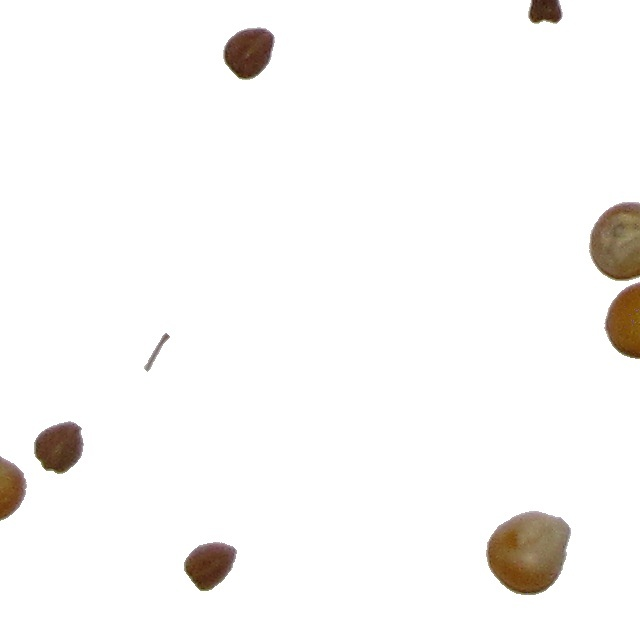buckwheat: (222, 26, 276, 81), (33, 420, 85, 475), (183, 541, 238, 592)
dill: (143, 332, 171, 373)
mais: (485, 510, 572, 596), (588, 201, 640, 282), (603, 281, 640, 363)
